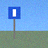sign: (8, 7, 20, 39)
